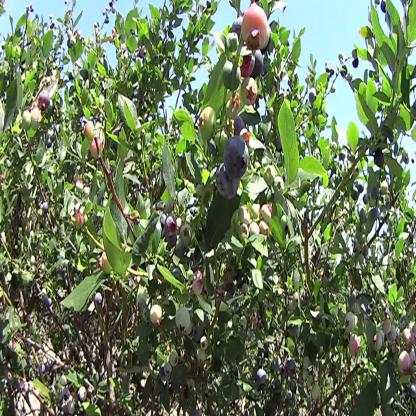intermediate: (239, 2, 275, 49), (235, 51, 257, 77), (90, 139, 106, 163), (398, 351, 413, 376), (349, 327, 359, 362), (83, 120, 97, 143), (38, 93, 54, 112), (403, 324, 413, 348), (74, 212, 86, 232), (74, 177, 84, 196), (95, 292, 104, 307), (85, 184, 93, 198)
mature: (214, 162, 240, 201), (225, 136, 251, 173), (254, 44, 270, 84), (175, 305, 193, 339), (148, 304, 167, 330), (284, 361, 301, 378), (77, 384, 89, 405), (257, 367, 269, 386), (355, 175, 365, 194)
young: (200, 107, 216, 147), (240, 78, 261, 108), (211, 123, 229, 157), (198, 334, 210, 371), (29, 107, 46, 132), (344, 312, 360, 335), (239, 223, 252, 244), (168, 349, 182, 368), (381, 315, 392, 339), (22, 105, 32, 130), (262, 206, 275, 225), (373, 334, 384, 356), (252, 221, 261, 243), (251, 202, 261, 221), (164, 363, 175, 378), (239, 208, 250, 223), (241, 314, 248, 331), (233, 314, 241, 328), (313, 386, 320, 400)
